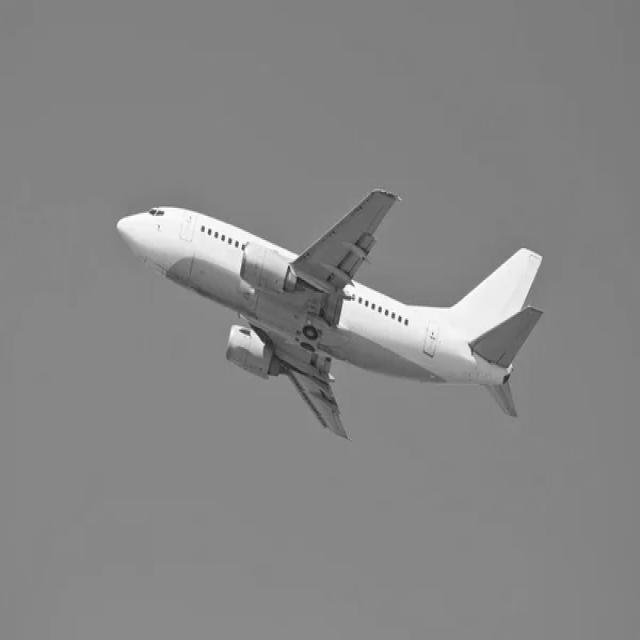Aircraft: (114, 168, 550, 456)
